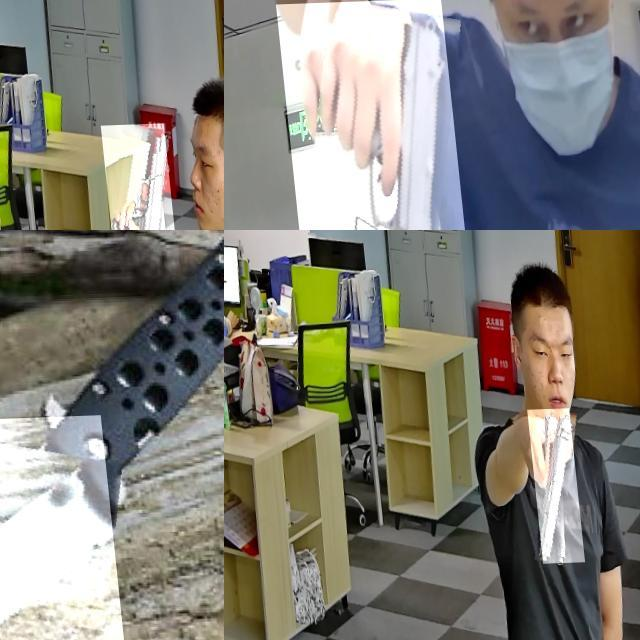-: (0, 417, 186, 640)
gun-knife-thesis - v11 Yolov5 augmented: (269, 1, 464, 230), (520, 412, 574, 567), (95, 126, 169, 230)
